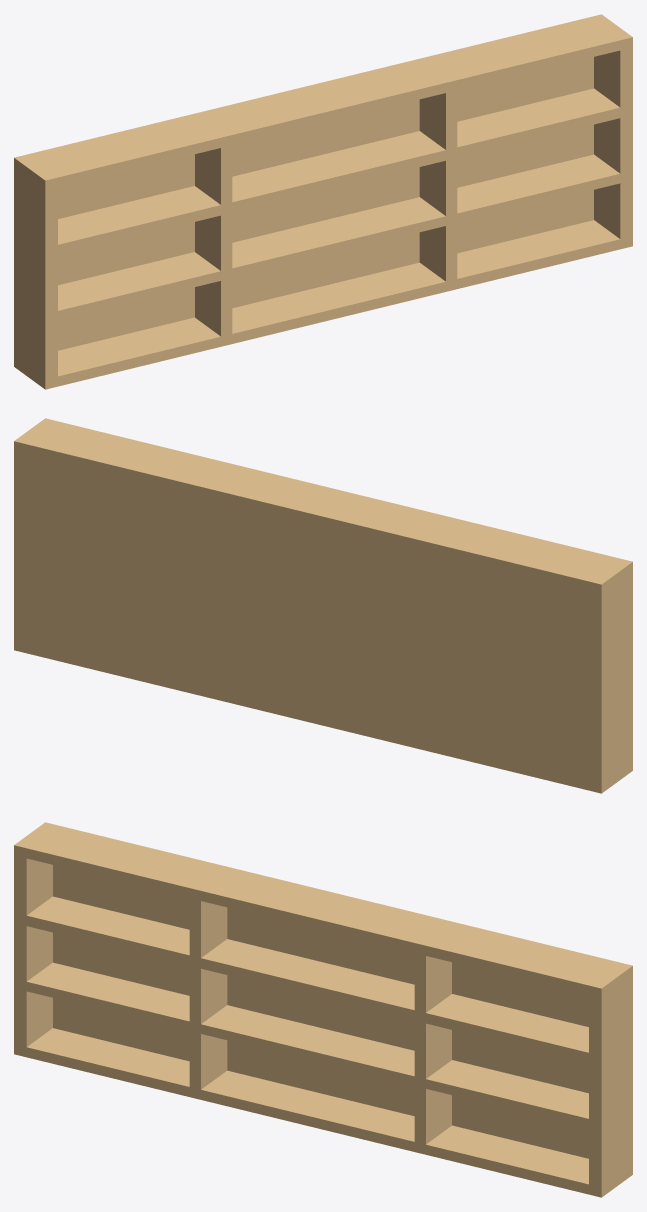
The model's file is fbx_club_bookshelf.fbx.
3 renders of one model, top to bottom at view 1: azimuth 30°, elevation 25°; view 2: azimuth 150°, elevation 25°; view 3: azimuth 330°, elevation 25°, orthographic.
Visible parts, largest first — view 1: fbx_club_bookshelf; view 2: fbx_club_bookshelf; view 3: fbx_club_bookshelf.
Boxes of the visible parts, left/top/right/bottom form: fbx_club_bookshelf: left=14, top=14, right=632, bottom=389; fbx_club_bookshelf: left=14, top=418, right=632, bottom=793; fbx_club_bookshelf: left=14, top=822, right=632, bottom=1197.
Bounding box in the file's own units: 7.68 × 2.61 × 0.7096.
Materials: 1 (1 with a texture image).
